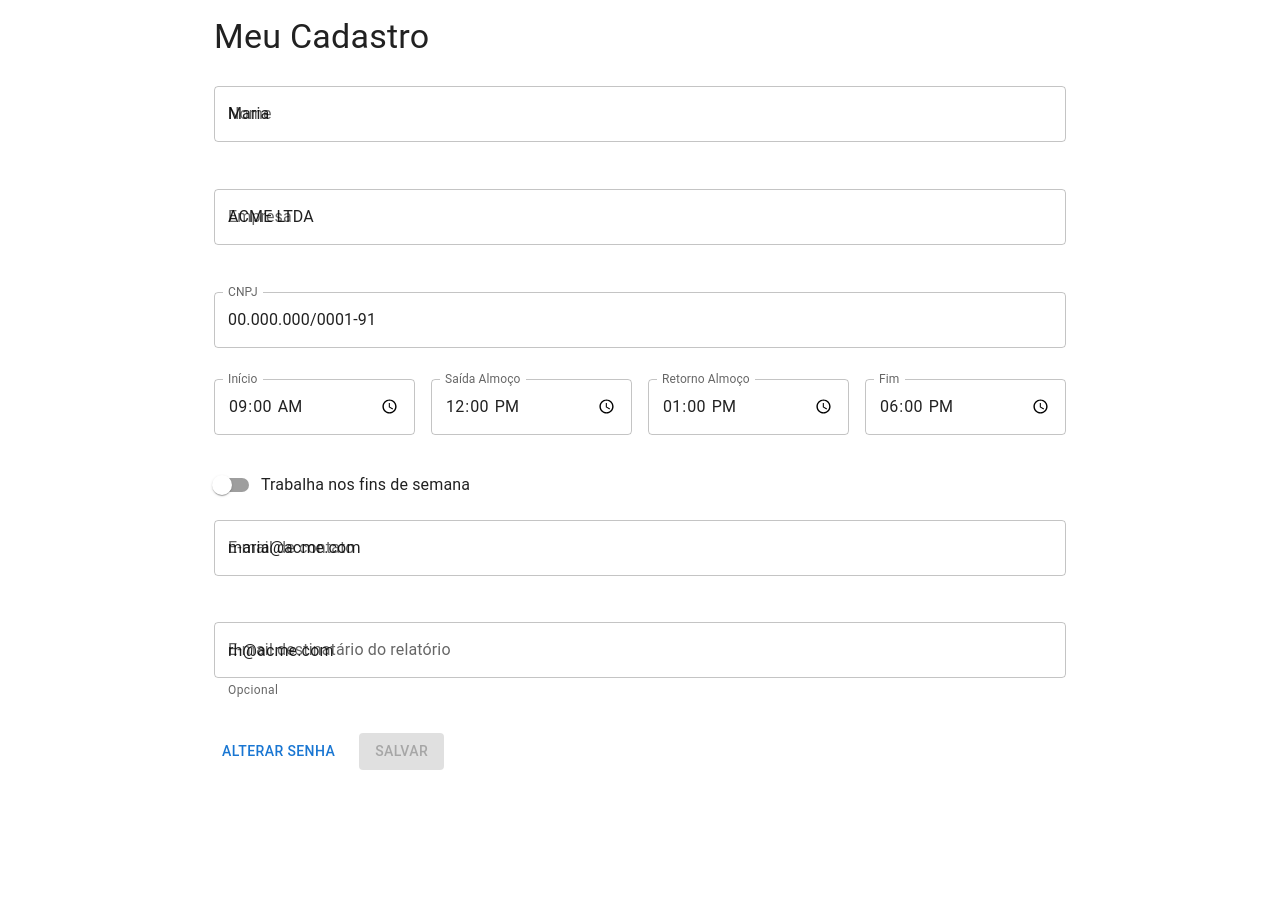
Test: CadastroPage › PUT /terceiros/me sucesso invalida cache e mostra toast
Step 1. Replace the text in the field labelled "Nome" with "Maria Silva" → (640, 114), box [214,86,1066,142]
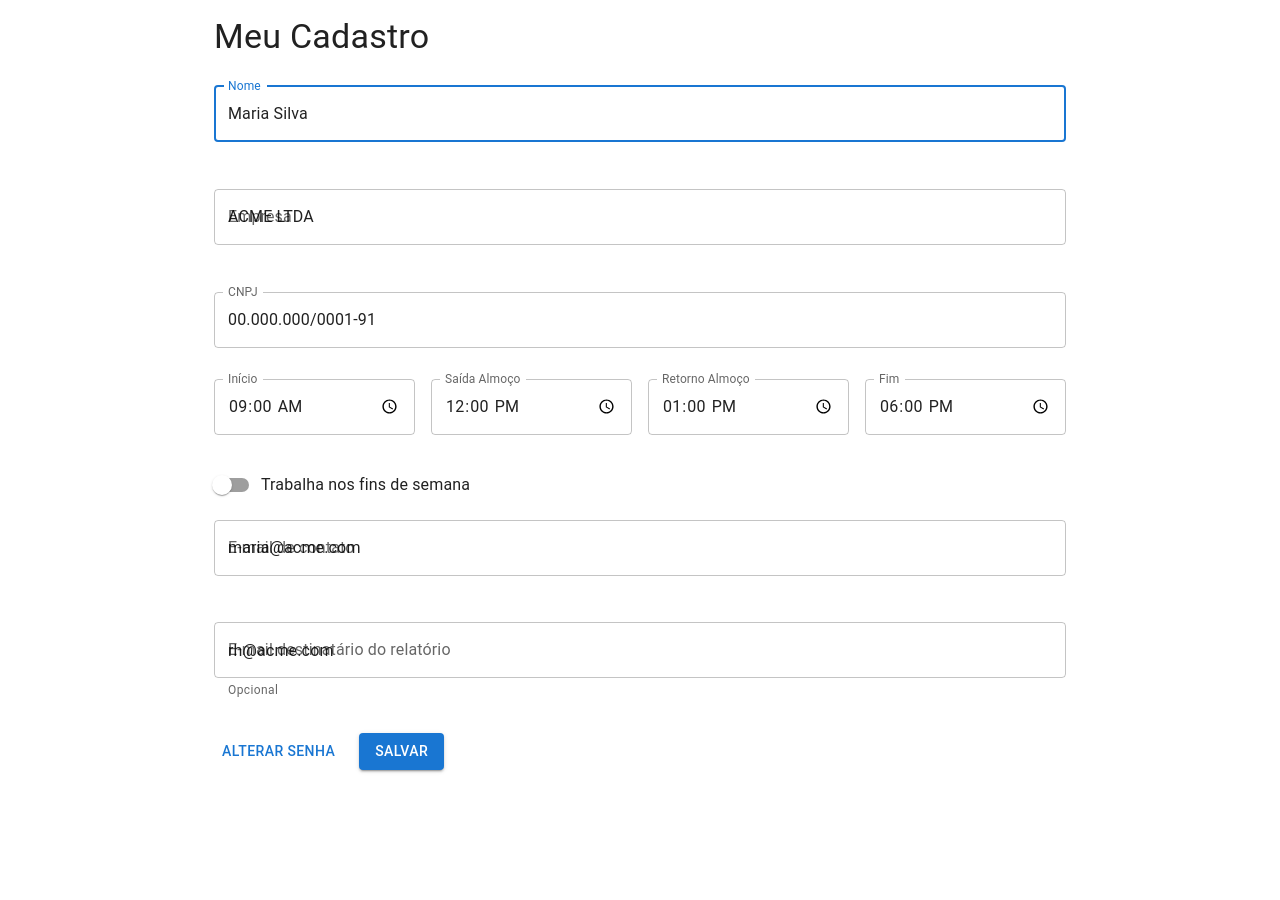
Step 2. Click the button "Salvar" → (402, 752), box [359,733,444,770]
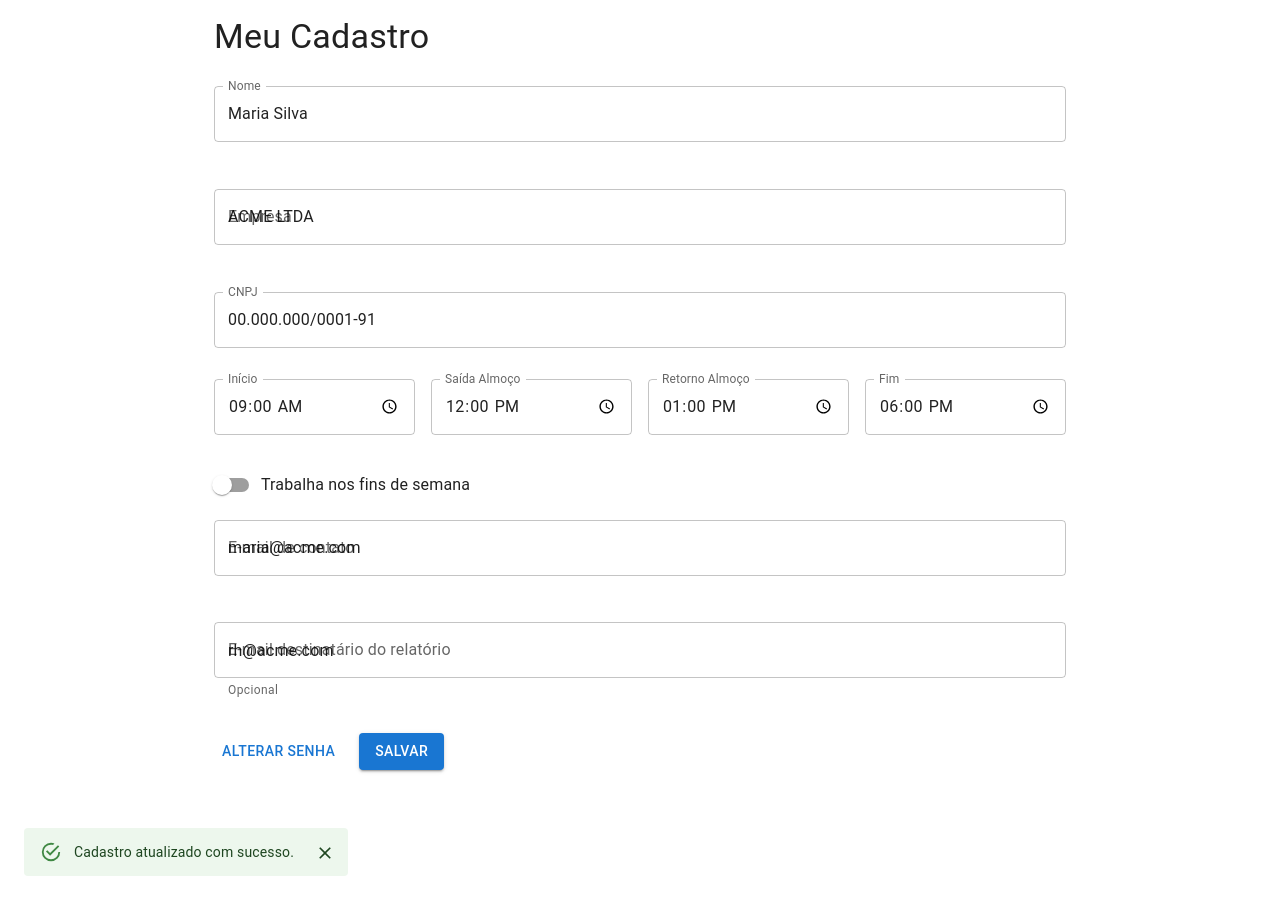
Expected: the text "Cadastro atualizado com sucesso." is shown, [74,844,294,860]
